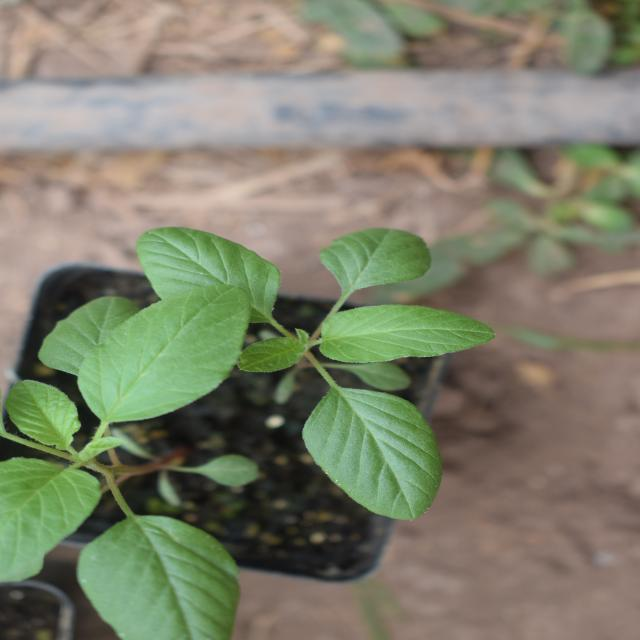pigweed: (144, 89, 432, 467), (31, 0, 277, 263)
